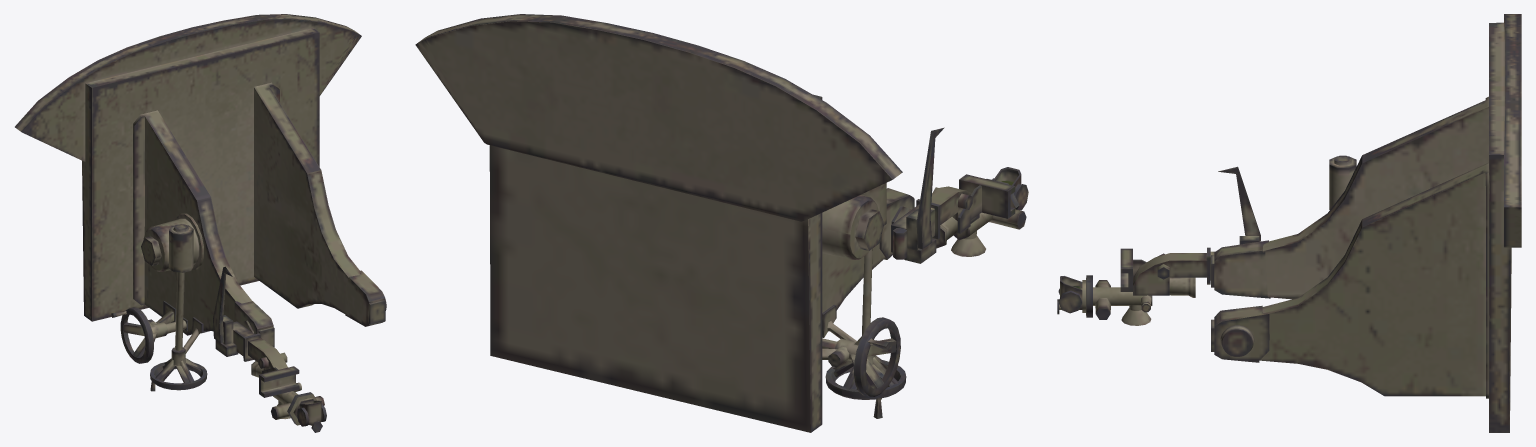
Rendered from Turret_01.glb.
3 renders of one model, left to right at view 1: azimuth 30°, elevation 25°; view 2: azimuth 150°, elevation 25°; view 3: azimuth 270°, elevation 25°, orthographic. The views are drawn at different scales.
Parts seen in each view (by area): view 1: set_0_group_0; view 2: set_0_group_0; view 3: set_0_group_0.
Boxes of the visible parts, x1,y1,x2,y2 form: set_0_group_0: (15,14,386,432); set_0_group_0: (415,14,1028,432); set_0_group_0: (1057,14,1521,432).
Size of the model in its own units: 1.15 by 0.9422 by 1.15.
Materials: 1 (1 with a texture image).
